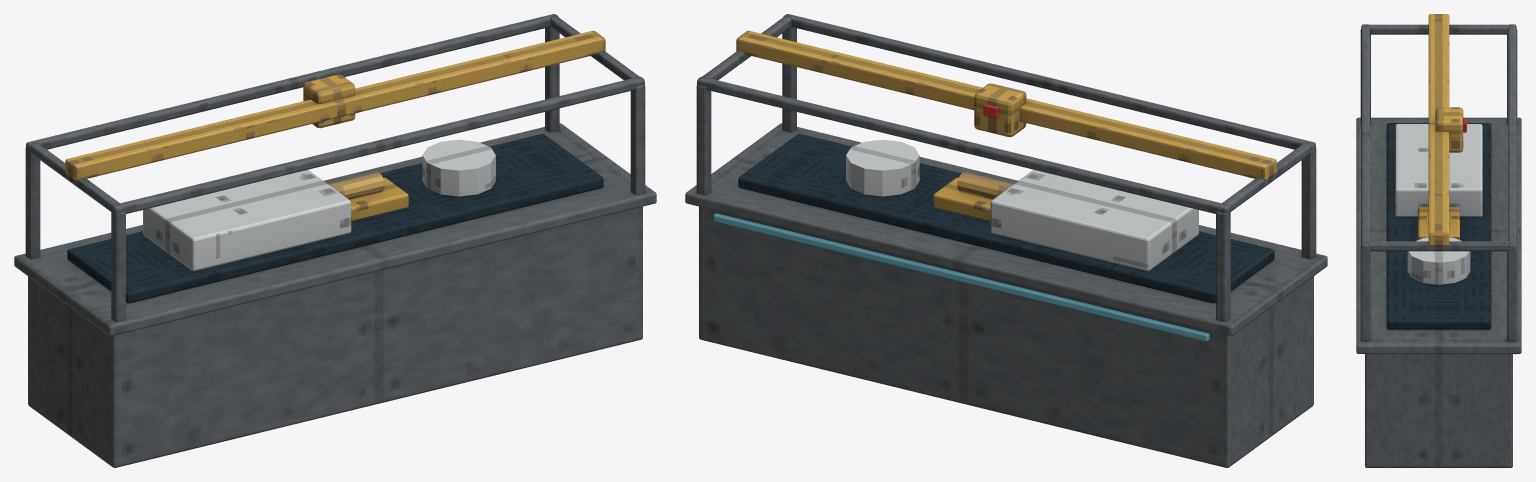
File: base_display_case_lock.glb
3 renders of one model, left to right at view 1: azimuth 30°, elevation 25°; view 2: azimuth 150°, elevation 25°; view 3: azimuth 270°, elevation 25°, orthographic. The views are drawn at different scales.
Parts seen in each view (by area): view 1: base_display_case_lock; view 2: base_display_case_lock; view 3: base_display_case_lock.
Part boxes in pixels (bbox=[...]): base_display_case_lock: bbox=[14, 14, 656, 467]; base_display_case_lock: bbox=[685, 14, 1327, 467]; base_display_case_lock: bbox=[1356, 14, 1521, 467].
Bounding box in the file's own units: 3.1 × 1.55 × 0.95.
6 materials, 6 textured.
